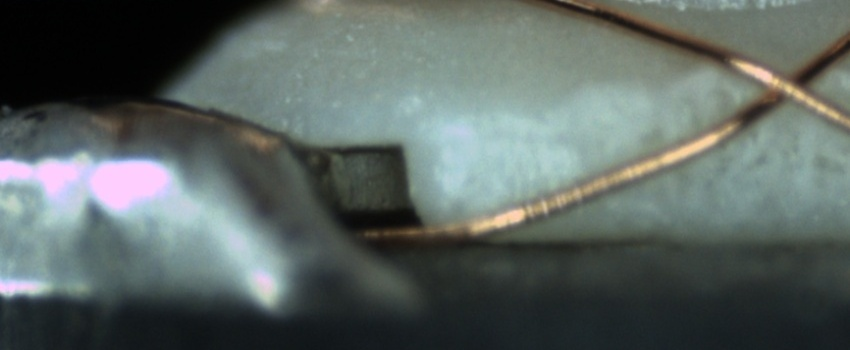CL: (742, 44, 838, 121)
DL: (449, 108, 578, 172)
